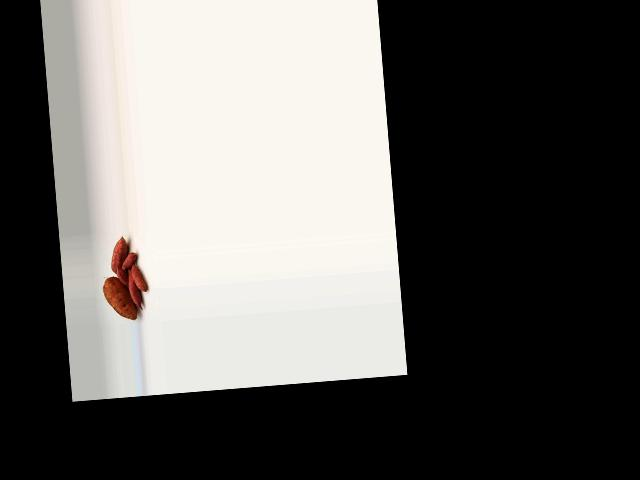sweet_potato: (108, 234, 129, 273)
